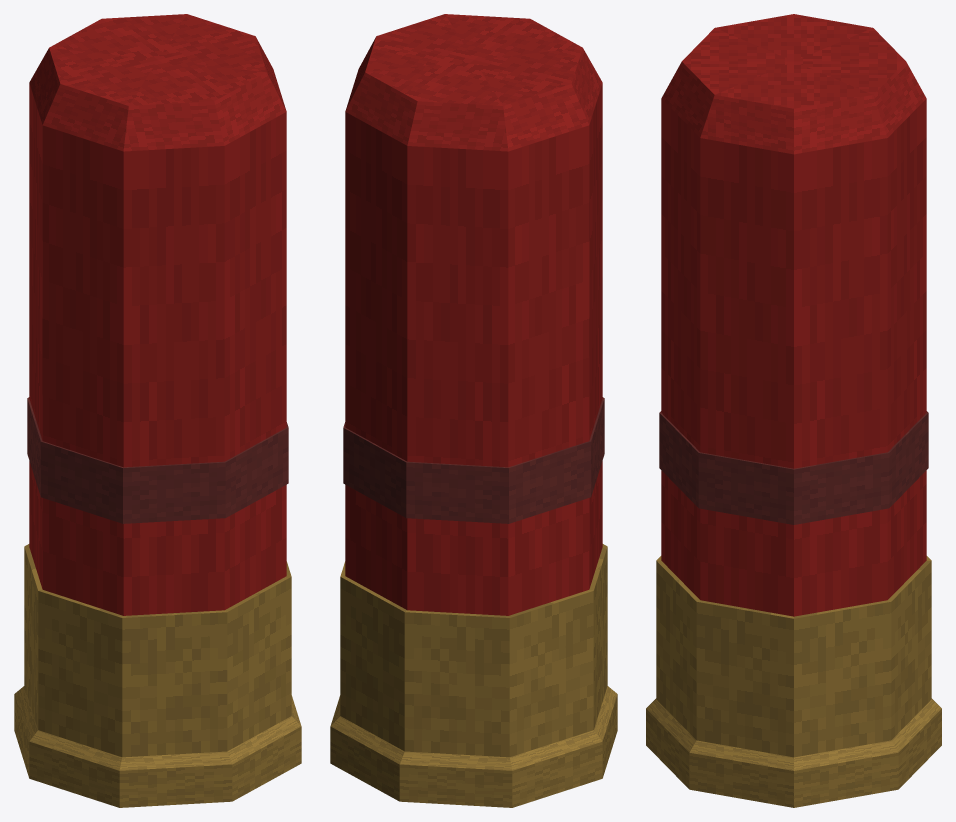
File: ammo_round_shell.glb
3 renders of one model, left to right at view 1: azimuth 30°, elevation 25°; view 2: azimuth 150°, elevation 25°; view 3: azimuth 270°, elevation 25°, orthographic.
Parts seen in each view (by area): view 1: ammo_round_shell; view 2: ammo_round_shell; view 3: ammo_round_shell.
Part boxes in pixels (x1,y1,x2,y2): ammo_round_shell: (14, 14, 301, 807); ammo_round_shell: (330, 14, 617, 807); ammo_round_shell: (646, 14, 941, 807).
Bounding box in the file's own units: 0.029 × 0.074 × 0.029.
Materials: 1 (1 with a texture image).
